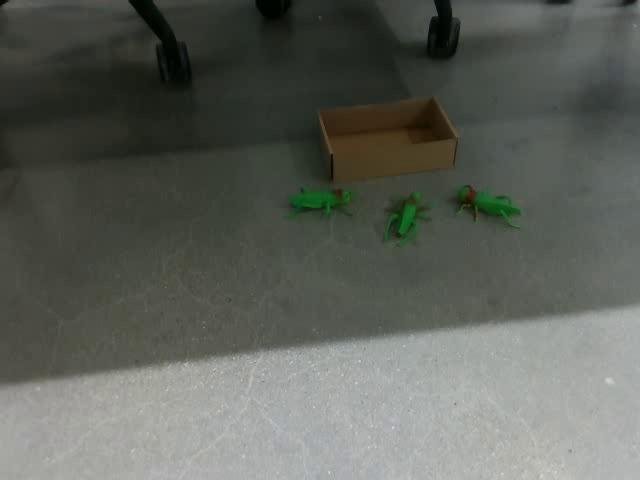box: (316, 94, 460, 183)
grasshopper: (454, 183, 521, 229), (382, 190, 431, 244), (287, 185, 352, 218)
